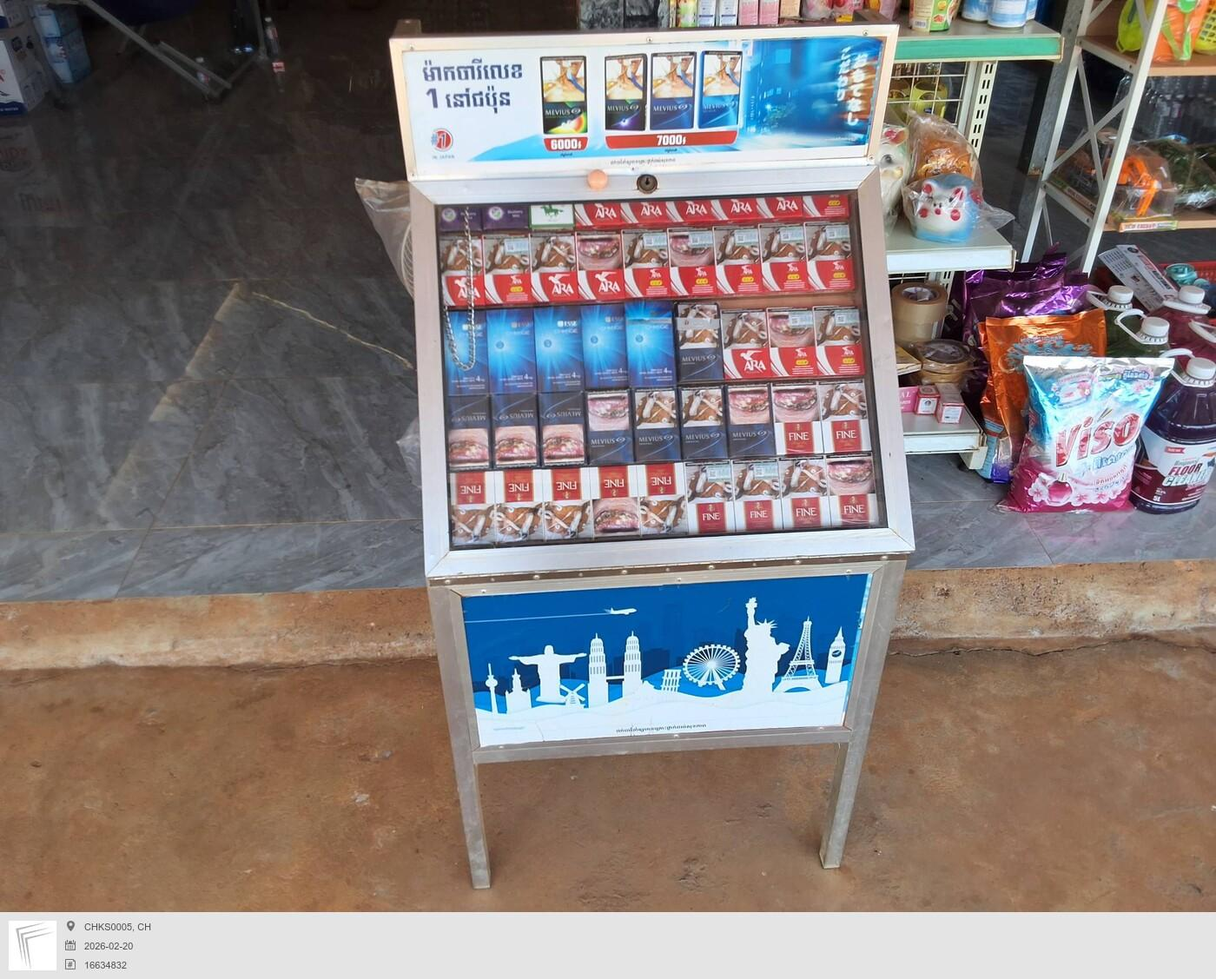cigarette_pack: (531, 57, 592, 138), (438, 387, 496, 470), (664, 382, 728, 457), (810, 298, 867, 380), (759, 379, 821, 454), (444, 464, 495, 552), (814, 380, 874, 454), (539, 457, 588, 547), (535, 382, 589, 463), (712, 295, 761, 381), (720, 457, 777, 530), (440, 311, 488, 396), (764, 304, 816, 382), (638, 454, 685, 540), (481, 303, 532, 381), (828, 449, 881, 524), (495, 464, 542, 547), (532, 299, 574, 390), (577, 304, 622, 388), (606, 55, 651, 138), (572, 222, 617, 305), (723, 381, 772, 457), (485, 230, 532, 309), (622, 387, 676, 455), (623, 302, 668, 383), (586, 462, 630, 544), (680, 462, 732, 530), (582, 382, 625, 463), (494, 386, 539, 463), (674, 304, 715, 386), (802, 223, 849, 294), (758, 225, 807, 293), (665, 230, 713, 297), (702, 52, 744, 128), (653, 58, 695, 133), (779, 454, 824, 522), (619, 233, 664, 300), (713, 222, 753, 293), (532, 232, 571, 304), (444, 242, 483, 313)
